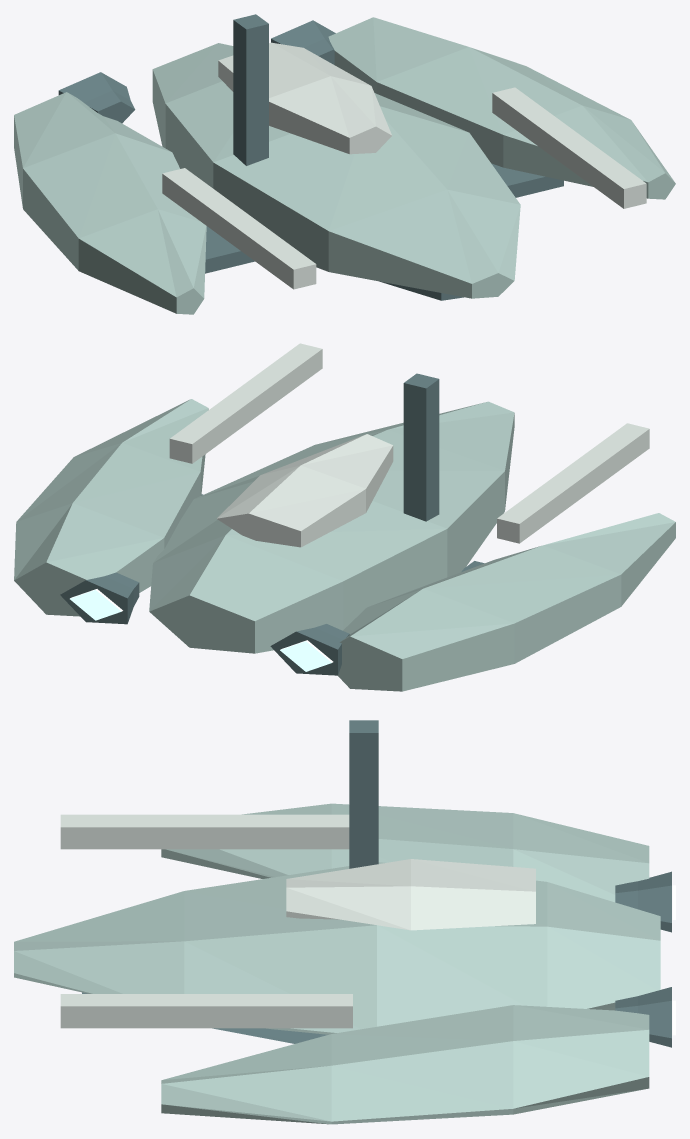
The picture shows the model from 3 angles, top to bottom: view 1: azimuth 30°, elevation 25°; view 2: azimuth 150°, elevation 25°; view 3: azimuth 270°, elevation 25°; orthographic projection. The views are drawn at different scales.
Bounding box in the file's own units: 11.65 × 4.49 × 10.87.
